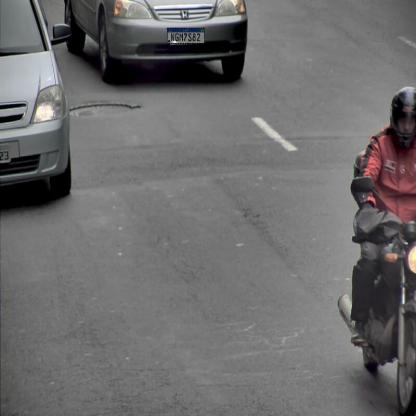PlacaM: (167, 28, 205, 44)
